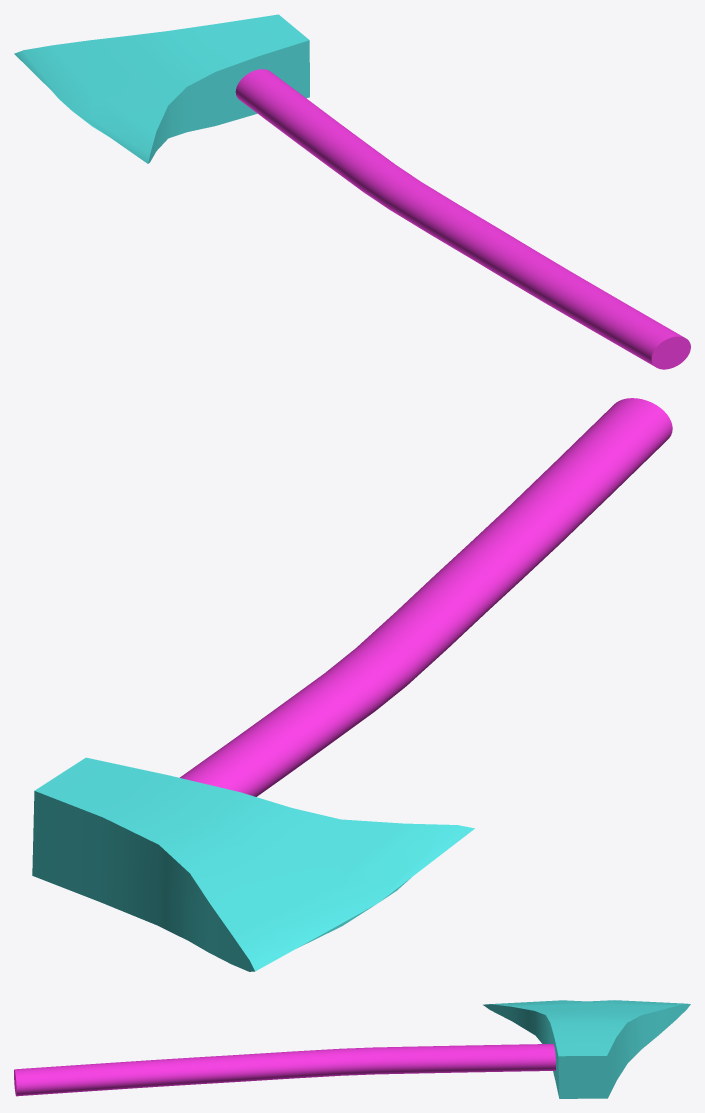
The model's file is hache.fbx.
3 renders of one model, top to bottom at view 1: azimuth 30°, elevation 25°; view 2: azimuth 150°, elevation 25°; view 3: azimuth 270°, elevation 25°, orthographic. The views are drawn at different scales.
Visible parts, largest first — view 1: fer, Baton; view 2: fer, Baton; view 3: Baton, fer.
Boxes of the visible parts, box(x1,y1,x2,y2) form: fer: box(14, 14, 309, 163); Baton: box(235, 69, 690, 369); fer: box(32, 757, 474, 971); Baton: box(179, 398, 672, 796); Baton: box(14, 1044, 555, 1096); fer: box(483, 1000, 690, 1098).
Bounding box in the file's own units: 0.3655 × 0.0905 × 1.27.
